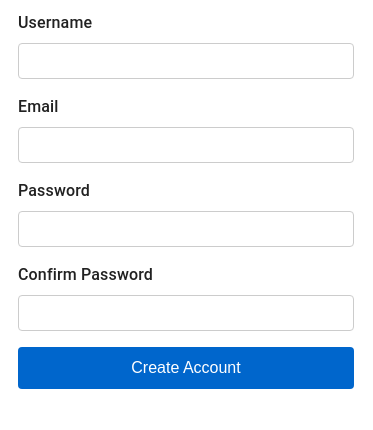
Test: RegisterForm › handles registration error
The width and height of the screenshot is (373, 430).
Type "testuser" into the field labelled "Username".
click(186, 61); type("testuser")  # box [18,43,354,79]
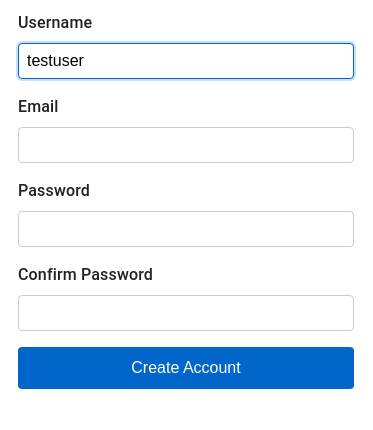
Type "test@example.com" into the field labelled "Email".
click(186, 145); type("test@example.com")  # box [18,127,354,163]
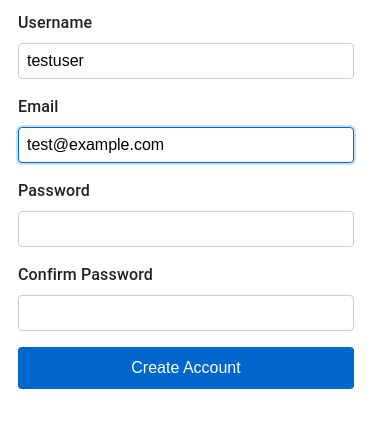
Type "password123" into the password field labelled "Password".
click(186, 229); type("password123")  # box [18,211,354,247]
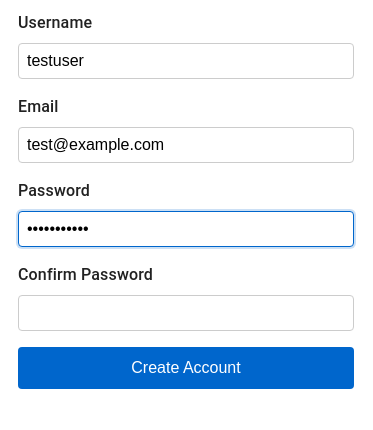
Type "password123" into the password field labelled "Confirm Password".
click(186, 313); type("password123")  # box [18,295,354,331]
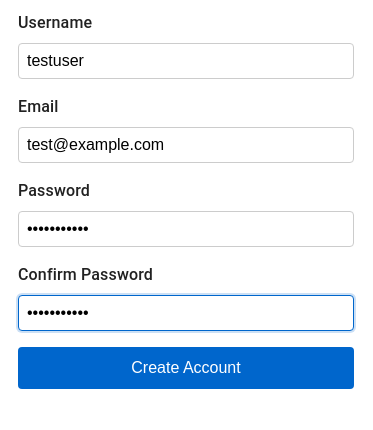
Click the button "Create Account".
click(186, 368)  # box [18,347,354,389]
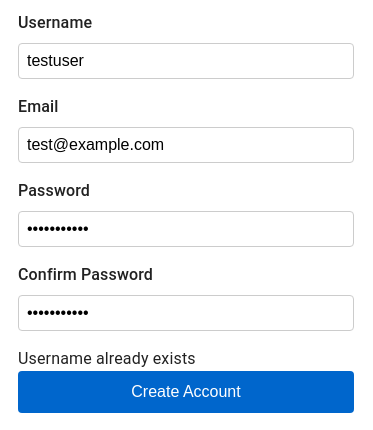
Now the text "Username already exists" is shown, box [18,349,196,368]
